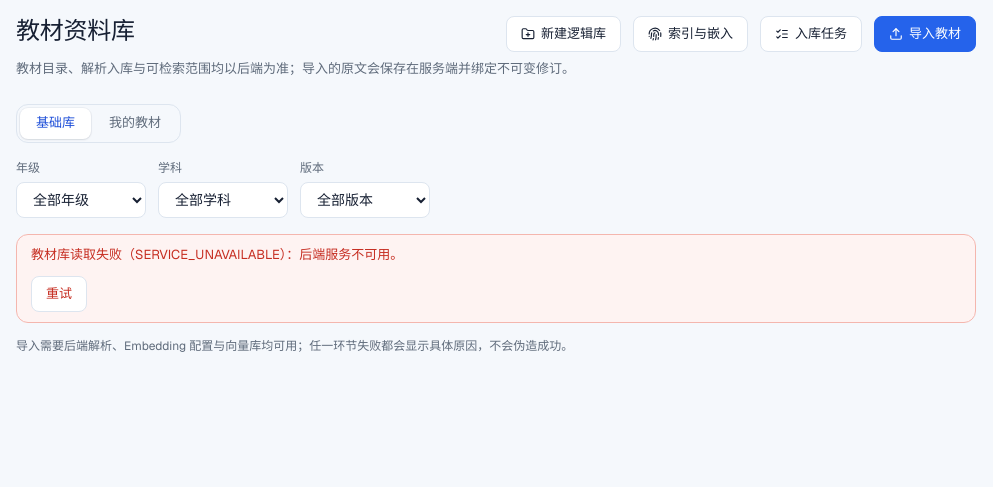
Test case: 教材管理页 › 请求失败显示错误与重试，而不是空目录
Expected: the message shows "教材库读取失败", 31,246 -> 135,263
Expected: the message shows "SERVICE_UNAVAILABLE", 135,246 -> 280,263
Step 1. Click the button "重试" → (59, 294), box 31,276 -> 87,312
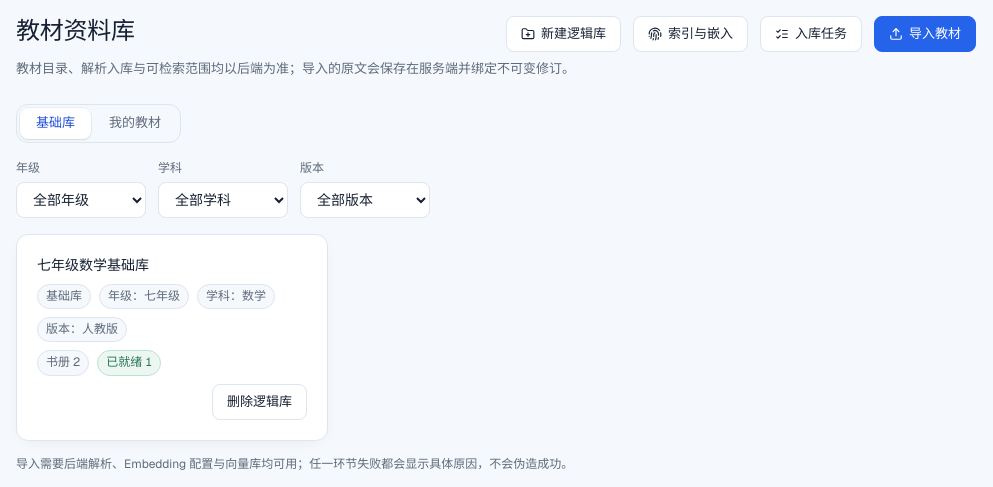
Result: the link "七年级数学基础库 基础库 年级：七年级 学科：数学 版本：人教版 书册 2 已就绪 1" is shown at 37,255 -> 307,376
